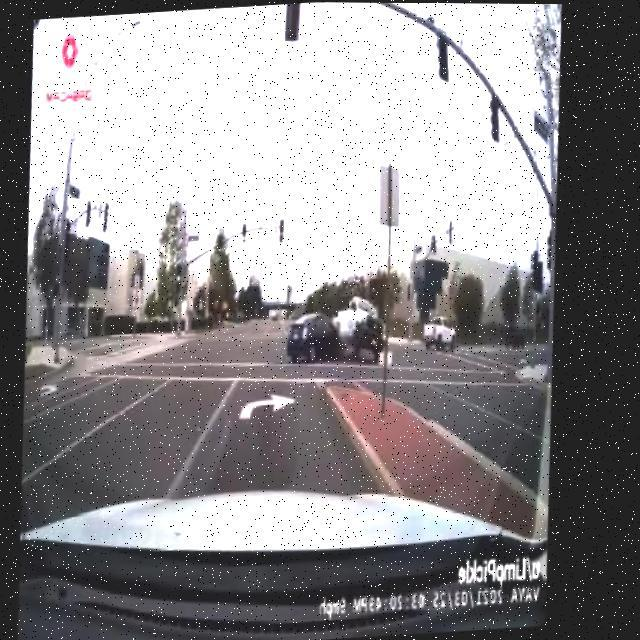Car Accident Detector - v4 Generation1 Exported: (286, 291, 397, 366)
